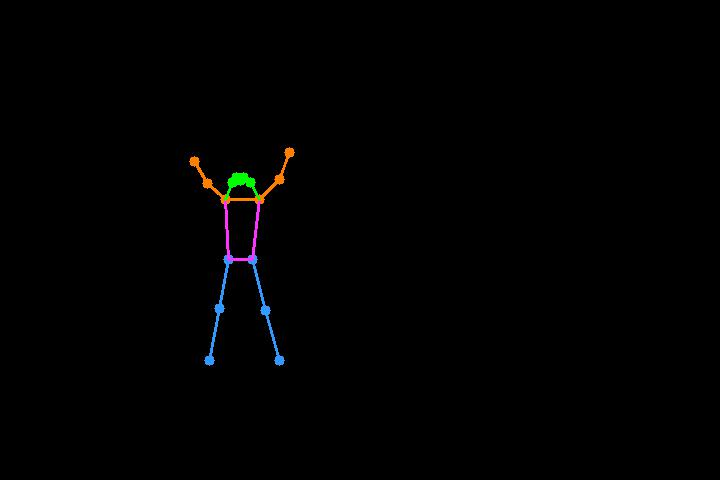normal: (171, 136, 318, 388)
